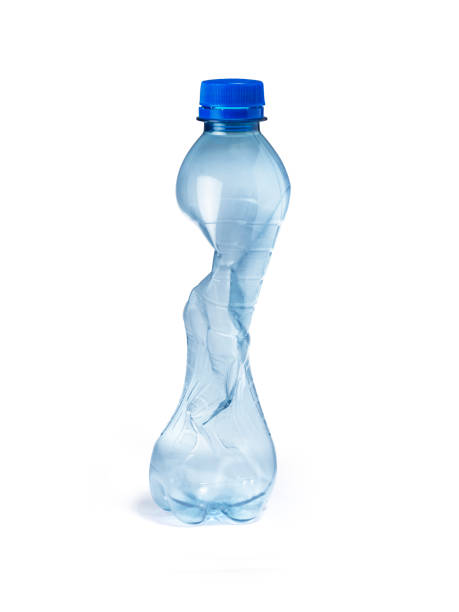plastic_bottle: (148, 76, 292, 525)
